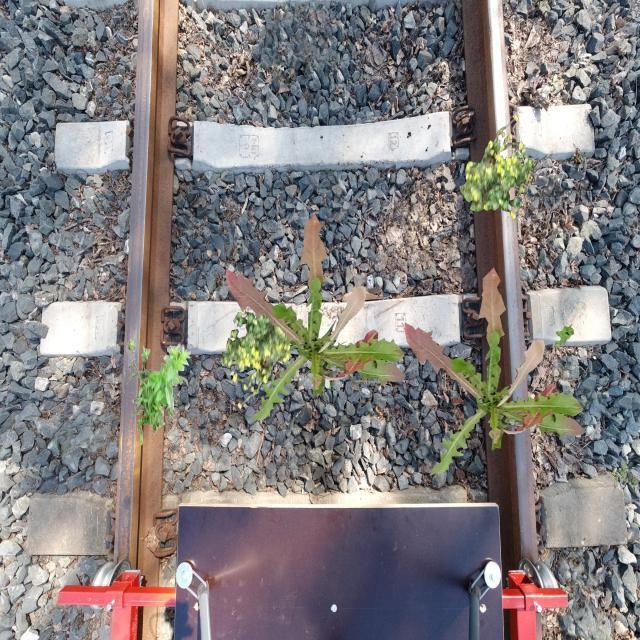Plant: (405, 267, 585, 476), (226, 213, 406, 422), (244, 317, 388, 407), (222, 305, 297, 410), (460, 115, 535, 220), (127, 338, 192, 446), (611, 460, 638, 490), (555, 324, 574, 348), (513, 143, 527, 158)
